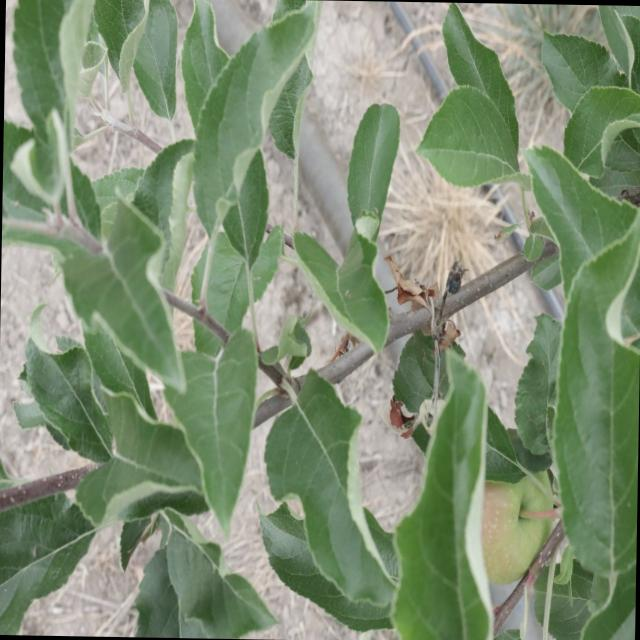-FireBlight-: (386, 250, 447, 340)
